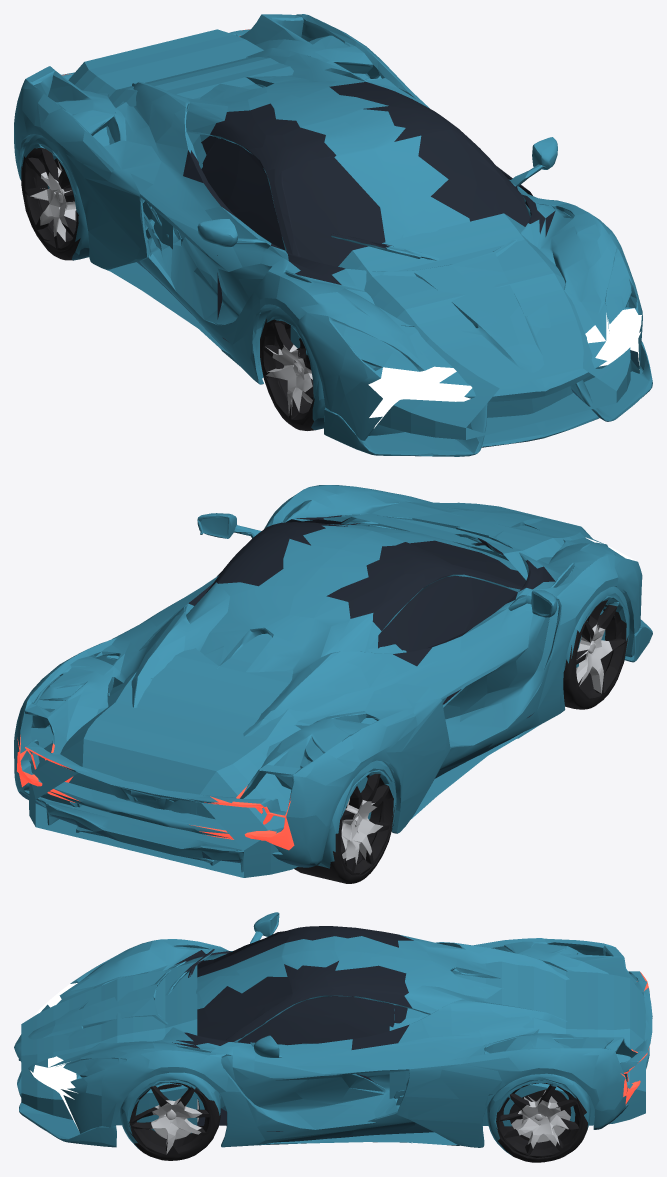
File: hypercar.glb
3 views of the same model, one above another, from view 1: azimuth 30°, elevation 25°; view 2: azimuth 150°, elevation 25°; view 3: azimuth 270°, elevation 25° (orthographic). The views are drawn at different scales.
Parts seen in each view (by area): view 1: output_unwrapped; view 2: output_unwrapped; view 3: output_unwrapped.
Part boxes in pixels (x1=…): output_unwrapped: x1=14, y1=14, x2=652, y2=456; output_unwrapped: x1=14, y1=485, x2=652, y2=883; output_unwrapped: x1=14, y1=912, x2=652, y2=1162.
Bounding box in the file's own units: 0.9561 × 0.5067 × 1.9.
